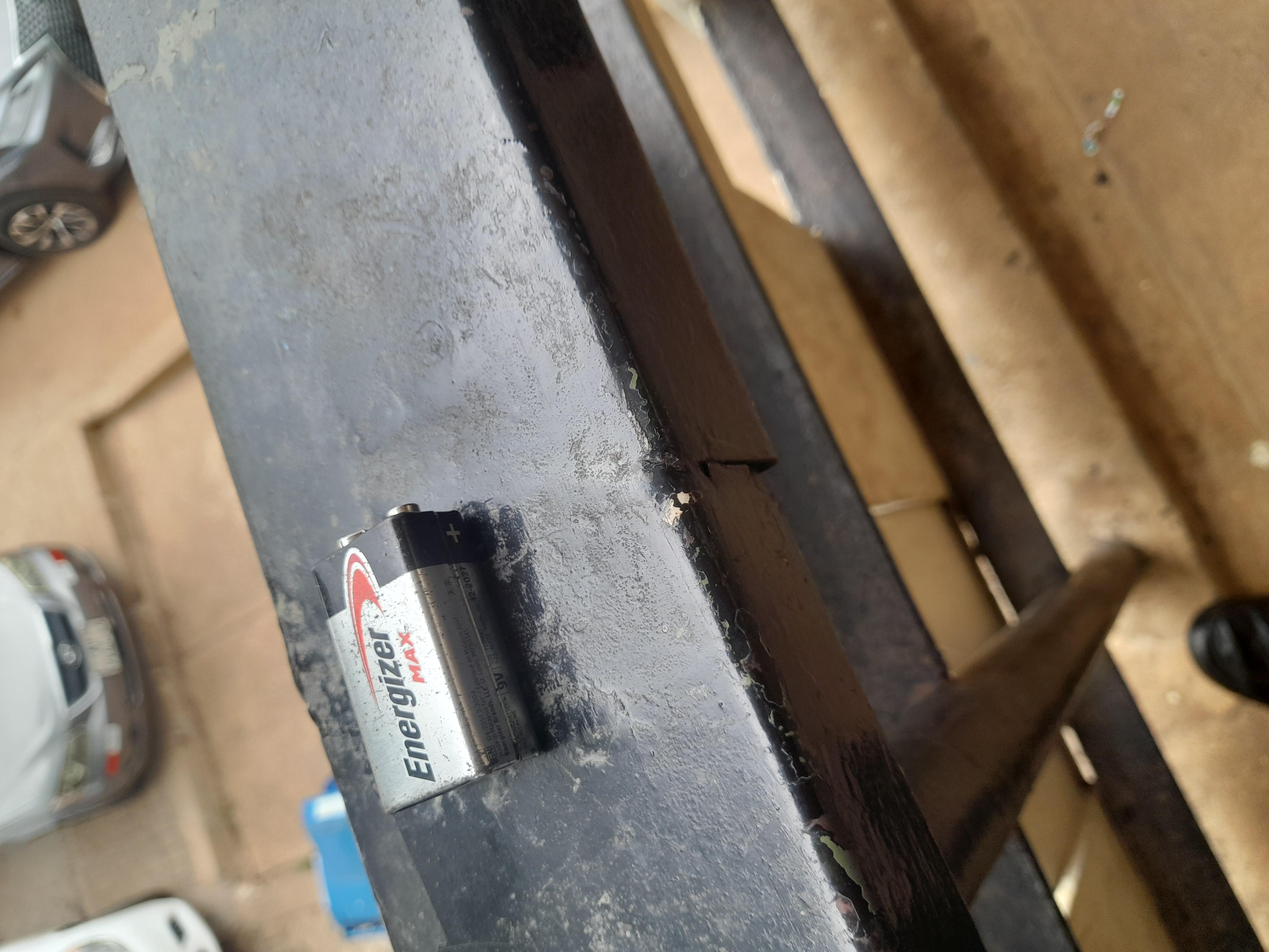9V: (698, 111, 982, 477)
